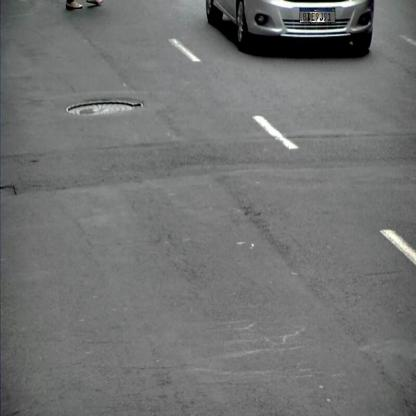PlacaM: (300, 8, 336, 23)
